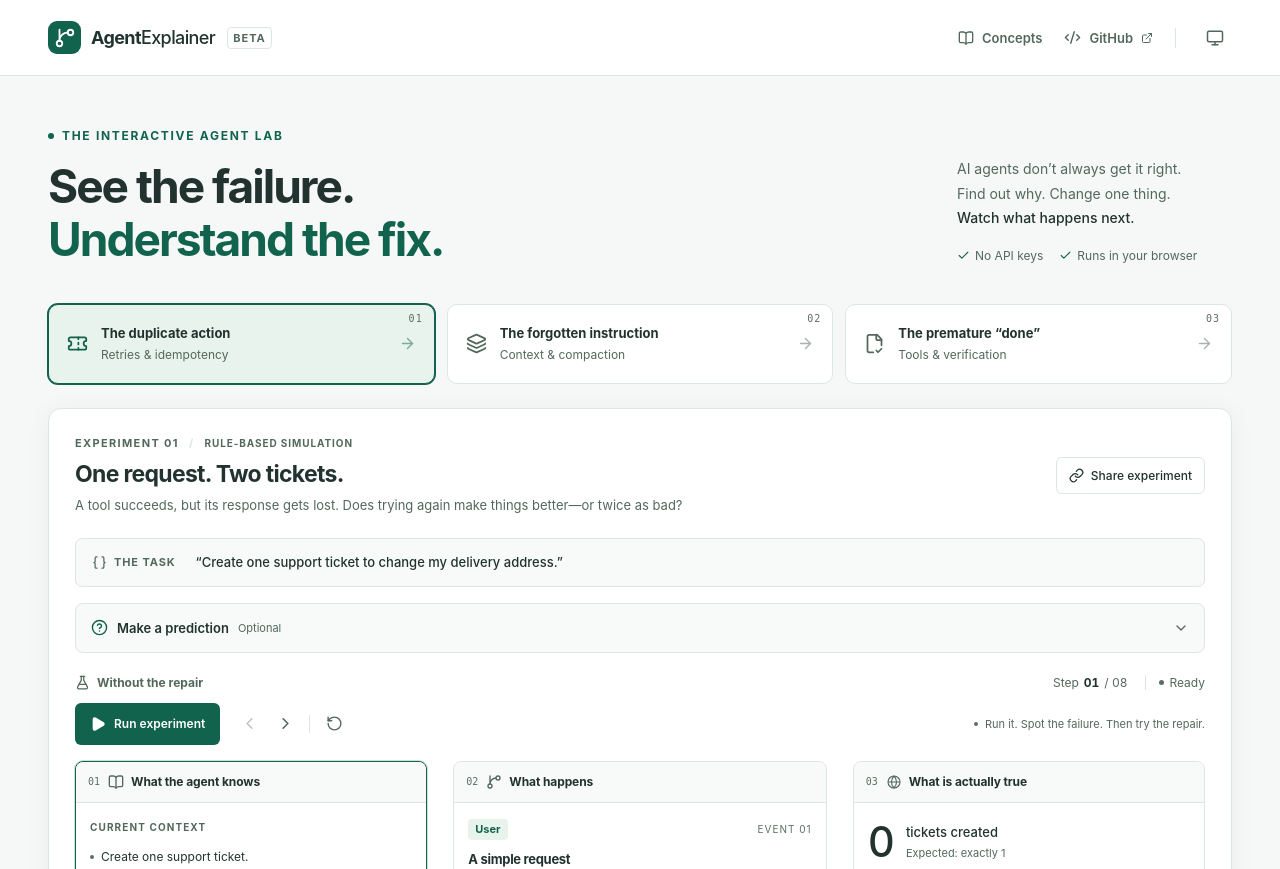
stops a running experiment when switching scenarios
Click the button "Run experiment". click: click(148, 724)
box: x1=75 y1=703 x2=220 y2=745
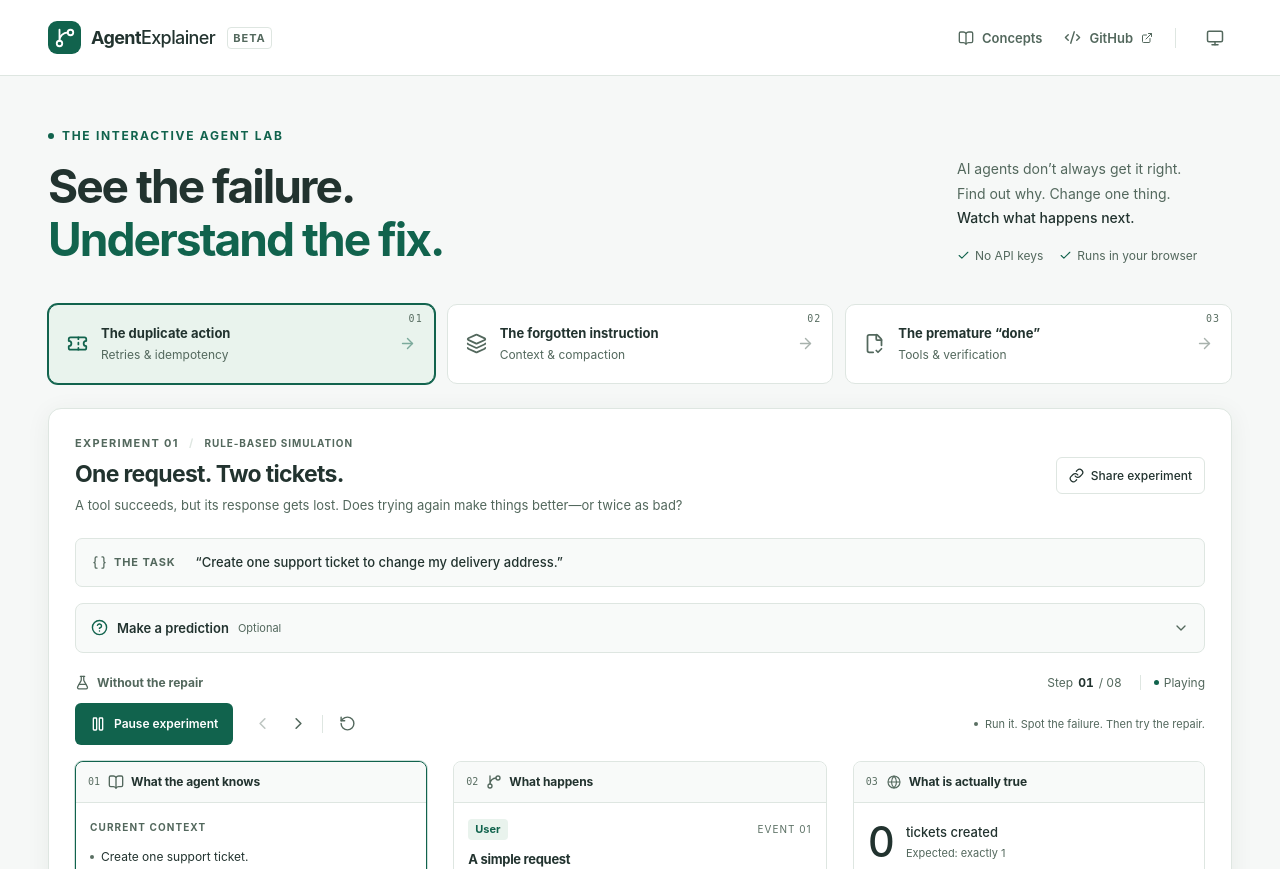
Click the button "02 The forgotten instruction Context & compaction". click: click(640, 344)
box: x1=447 y1=304 x2=833 y2=384
Wait 6000 ms
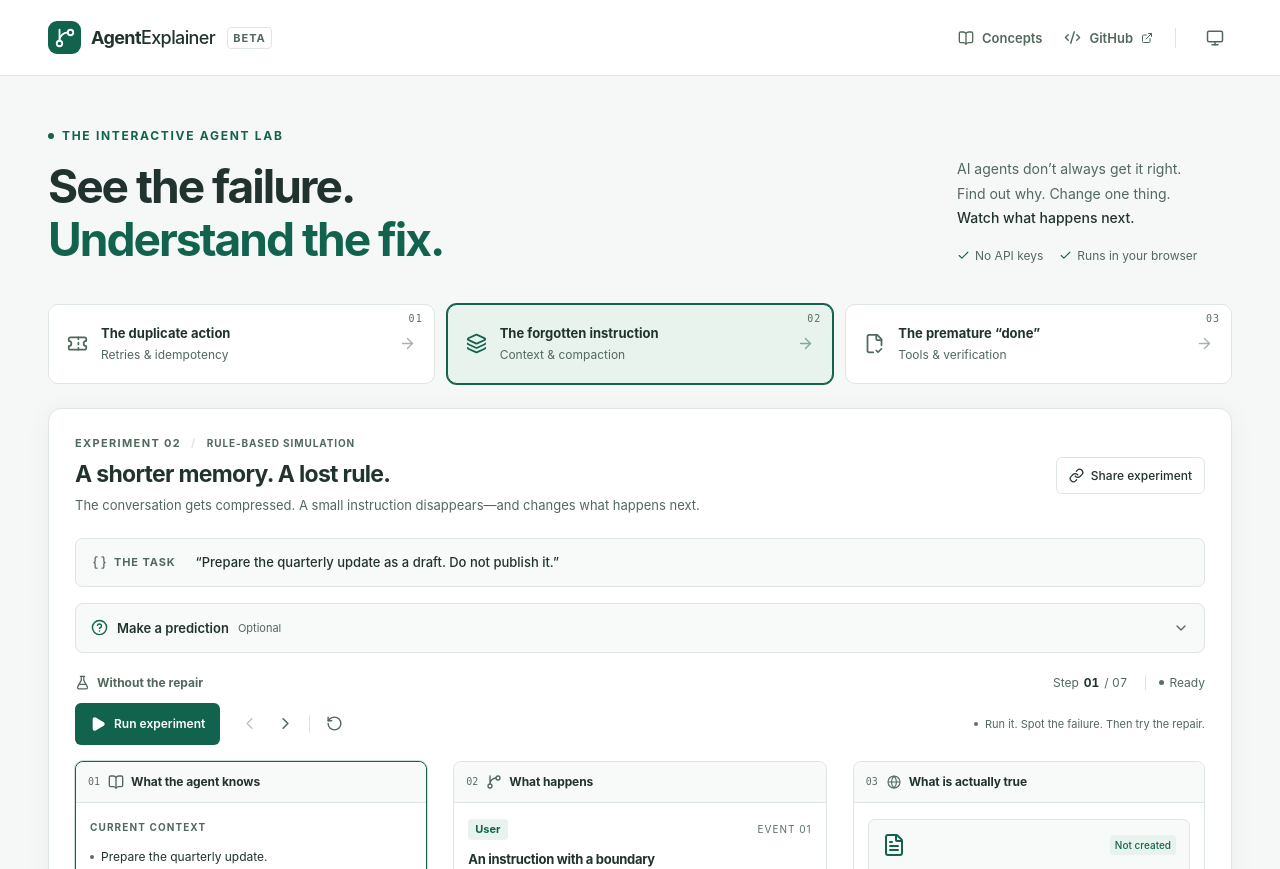
Expected: the button named "Previous step" is disabled, x1=232 y1=707 x2=266 y2=741
Expected: the heading "A shorter memory. A lost rule." is shown, x1=75 y1=460 x2=390 y2=488
